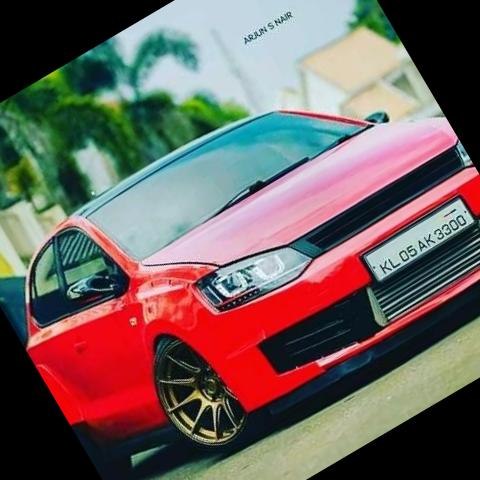plate: (354, 178, 480, 301)
